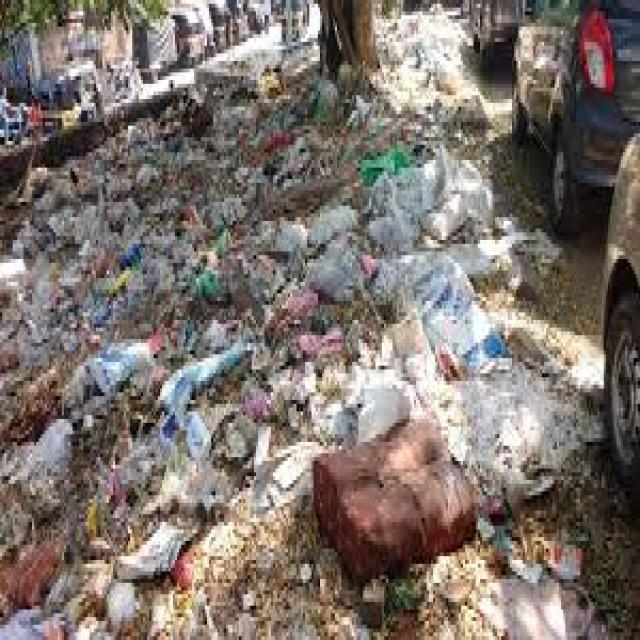heap: (70, 169, 520, 538)
